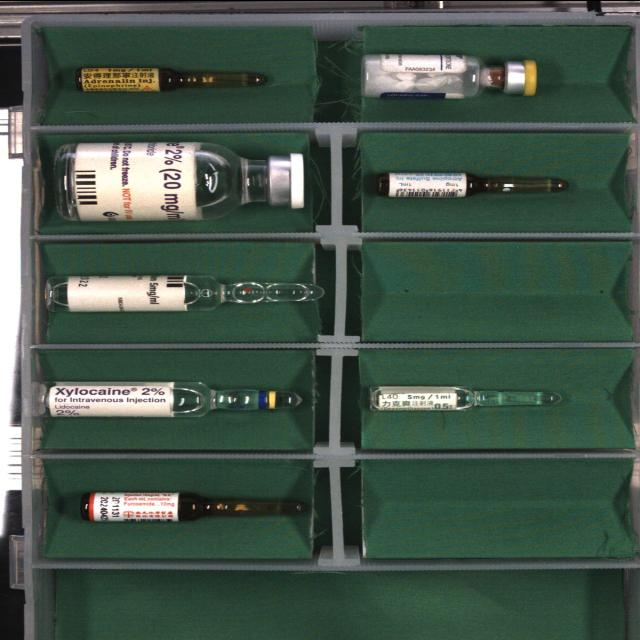Vials: (54, 141, 305, 220)
